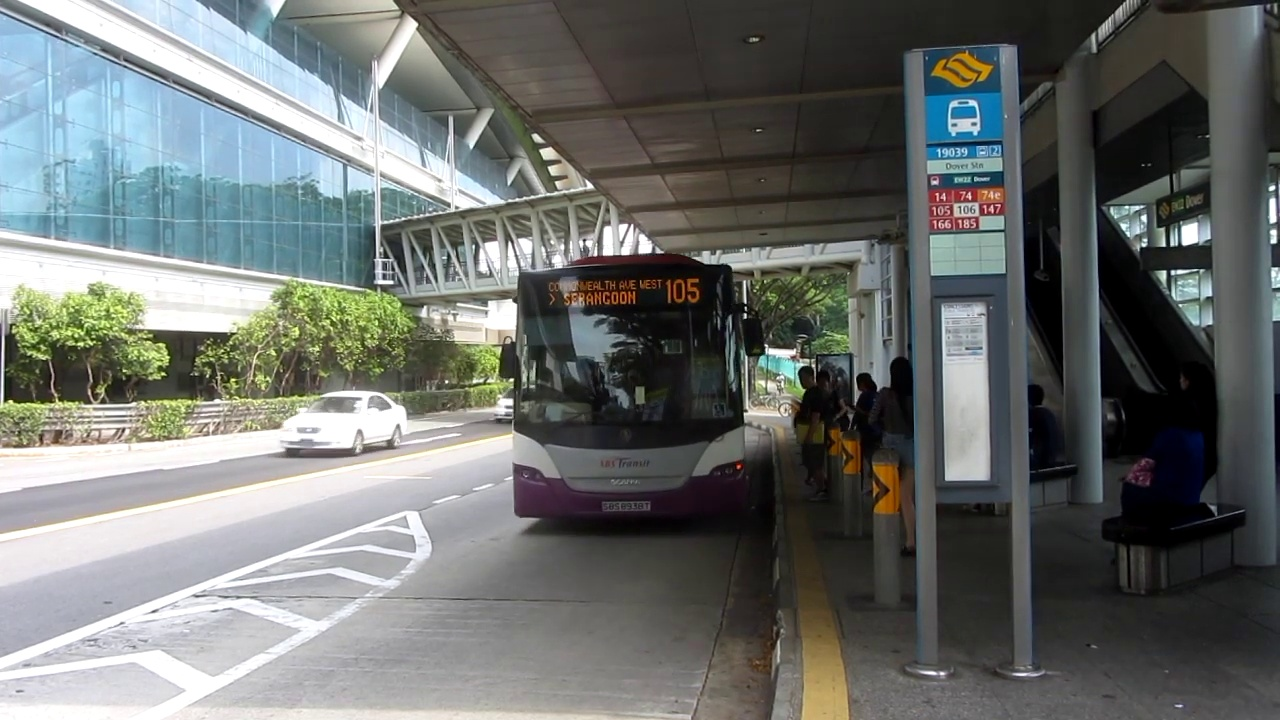bus panel: (543, 275, 705, 309)
